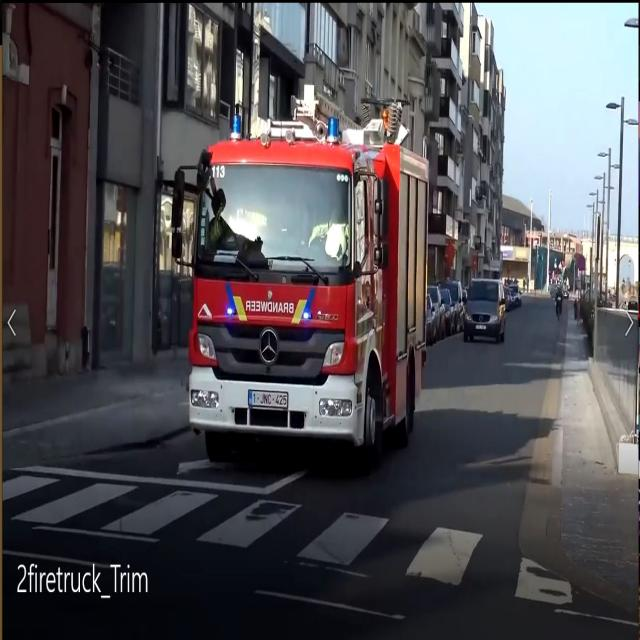emergency: (162, 82, 443, 482)
